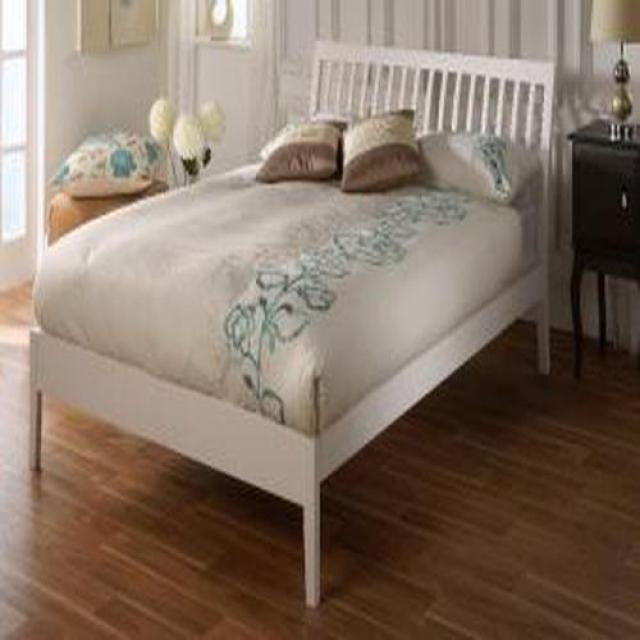bed: (29, 40, 556, 611)
